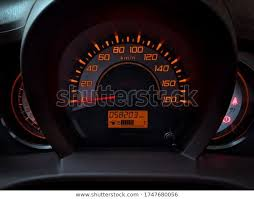Digital_Meter: (106, 108, 150, 131)
